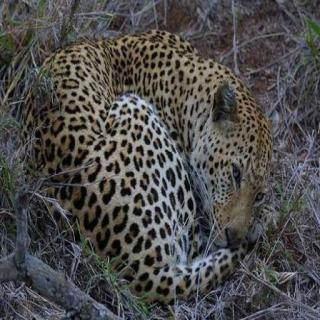Leopard: (19, 19, 290, 310)
